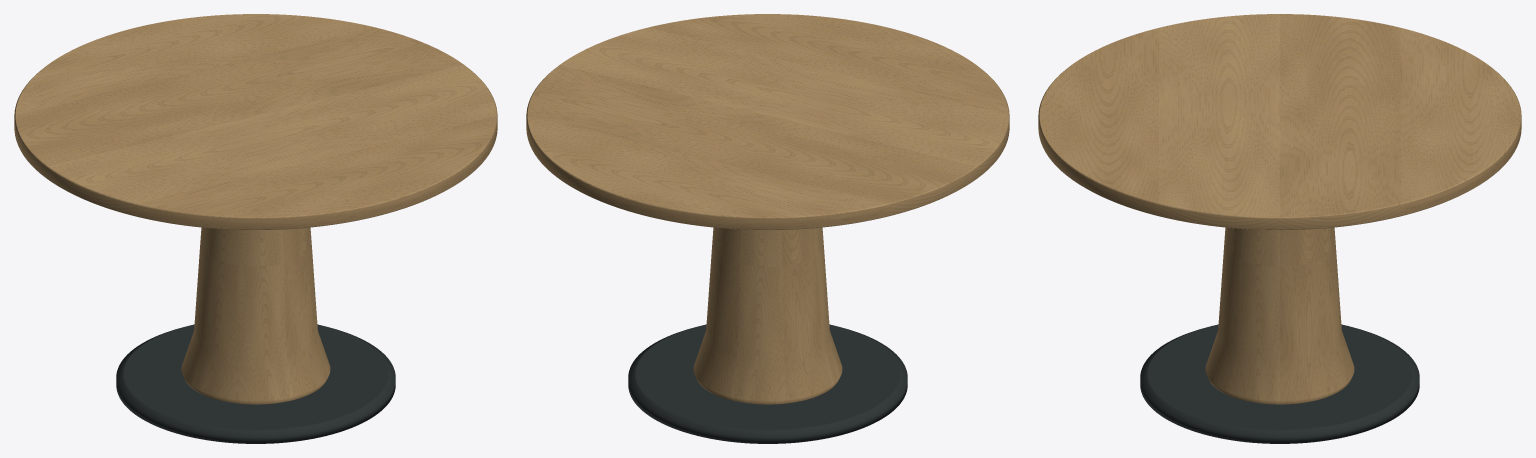
File: universal-round-dining-table.glb
3 renders of one model, left to right at view 1: azimuth 30°, elevation 25°; view 2: azimuth 150°, elevation 25°; view 3: azimuth 270°, elevation 25°, orthographic.
Parts seen in each view (by area): view 1: Solid oak circular dining top, Sculpted tapered oak column, Weighted circular plinth; view 2: Solid oak circular dining top, Sculpted tapered oak column, Weighted circular plinth; view 3: Solid oak circular dining top, Sculpted tapered oak column, Weighted circular plinth.
Part boxes in pixels (<box>): Solid oak circular dining top: <box>14,14,497,230</box>; Sculpted tapered oak column: <box>181,227,330,404</box>; Weighted circular plinth: <box>116,324,395,443</box>; Solid oak circular dining top: <box>526,14,1009,230</box>; Sculpted tapered oak column: <box>693,227,842,404</box>; Weighted circular plinth: <box>628,324,907,443</box>; Solid oak circular dining top: <box>1038,14,1521,230</box>; Sculpted tapered oak column: <box>1205,227,1354,404</box>; Weighted circular plinth: <box>1140,324,1419,443</box>.
Size of the model in its own units: 1.2 by 0.75 by 1.2.
6 materials, 2 textured.
